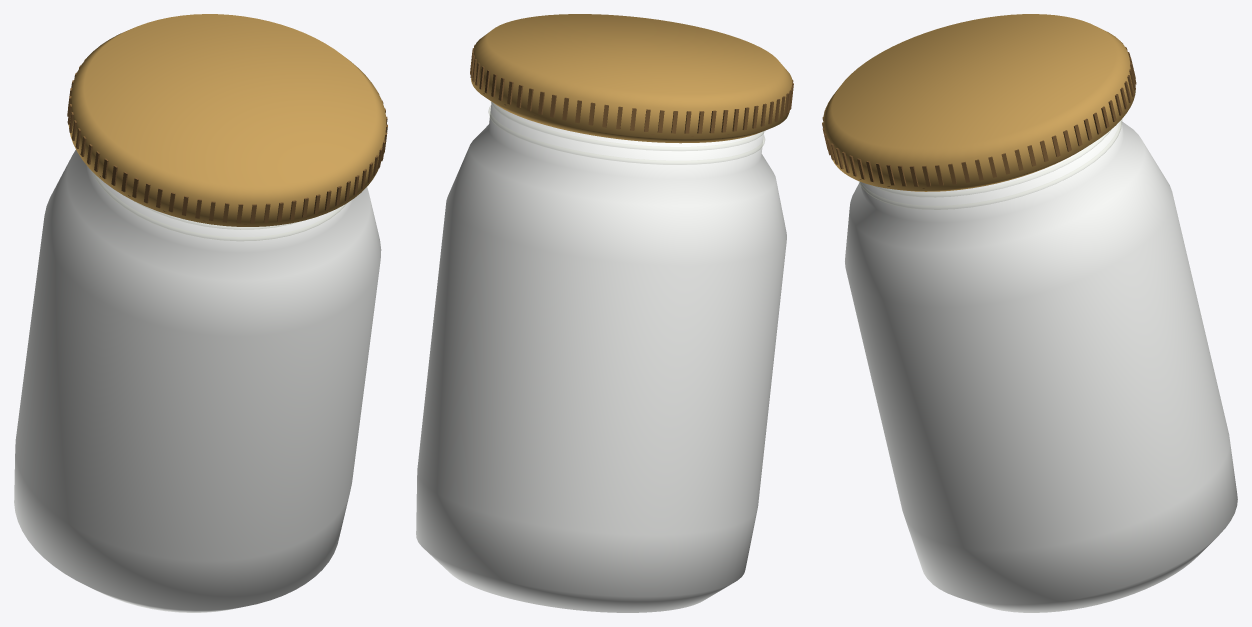
Rendered from pickle_jar-default.glb.
3 views of the same model, side by side, from view 1: azimuth 30°, elevation 25°; view 2: azimuth 150°, elevation 25°; view 3: azimuth 270°, elevation 25° (orthographic). The views are drawn at different scales.
Visible parts, largest first — view 1: Pickle jar actual hollow glass, Warm brass threaded lid, pickle_jar-default__Dark_brass_screw_details, pickle_jar-default__Clear_heavy_glass_rim; view 2: Pickle jar actual hollow glass, Warm brass threaded lid, pickle_jar-default__Dark_brass_screw_details, pickle_jar-default__Clear_heavy_glass_rim; view 3: Pickle jar actual hollow glass, Warm brass threaded lid, pickle_jar-default__Dark_brass_screw_details, pickle_jar-default__Clear_heavy_glass_rim.
Boxes of the visible parts, x1=… form: Pickle jar actual hollow glass: x1=14, y1=150, x2=381, y2=612; Warm brass threaded lid: x1=68, y1=14, x2=386, y2=226; pickle_jar-default__Dark_brass_screw_details: x1=67, y1=59, x2=387, y2=224; pickle_jar-default__Clear_heavy_glass_rim: x1=91, y1=171, x2=345, y2=240; Pickle jar actual hollow glass: x1=416, y1=102, x2=786, y2=612; Warm brass threaded lid: x1=471, y1=14, x2=792, y2=143; pickle_jar-default__Dark_brass_screw_details: x1=470, y1=45, x2=793, y2=136; pickle_jar-default__Clear_heavy_glass_rim: x1=488, y1=102, x2=764, y2=164; Pickle jar actual hollow glass: x1=845, y1=120, x2=1237, y2=612; Warm brass threaded lid: x1=823, y1=14, x2=1135, y2=191; pickle_jar-default__Dark_brass_screw_details: x1=822, y1=42, x2=1136, y2=188; pickle_jar-default__Clear_heavy_glass_rim: x1=858, y1=119, x2=1122, y2=209.
Size of the model in its own units: 0.12 by 0.2064 by 0.1487.
